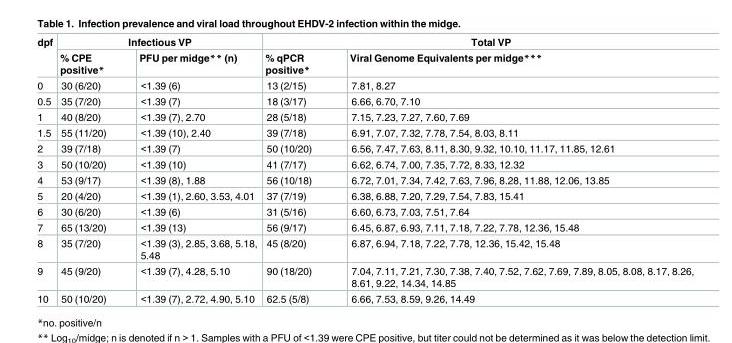table: (36, 37, 693, 304)
table column: (330, 37, 693, 304), (122, 37, 260, 304), (260, 37, 330, 304), (55, 37, 122, 304), (36, 37, 55, 304)
table column header: (36, 37, 693, 77)
table row: (36, 49, 693, 77), (36, 234, 693, 262), (36, 262, 693, 290), (36, 92, 693, 108), (36, 108, 693, 124), (36, 124, 693, 140), (36, 140, 693, 156), (36, 171, 693, 187), (36, 187, 693, 203), (36, 203, 693, 219), (36, 77, 693, 92), (36, 156, 693, 171), (36, 219, 693, 234), (36, 290, 693, 304), (36, 37, 693, 49)
table spanning cell: (260, 37, 693, 49), (55, 37, 260, 49), (36, 37, 55, 77)
